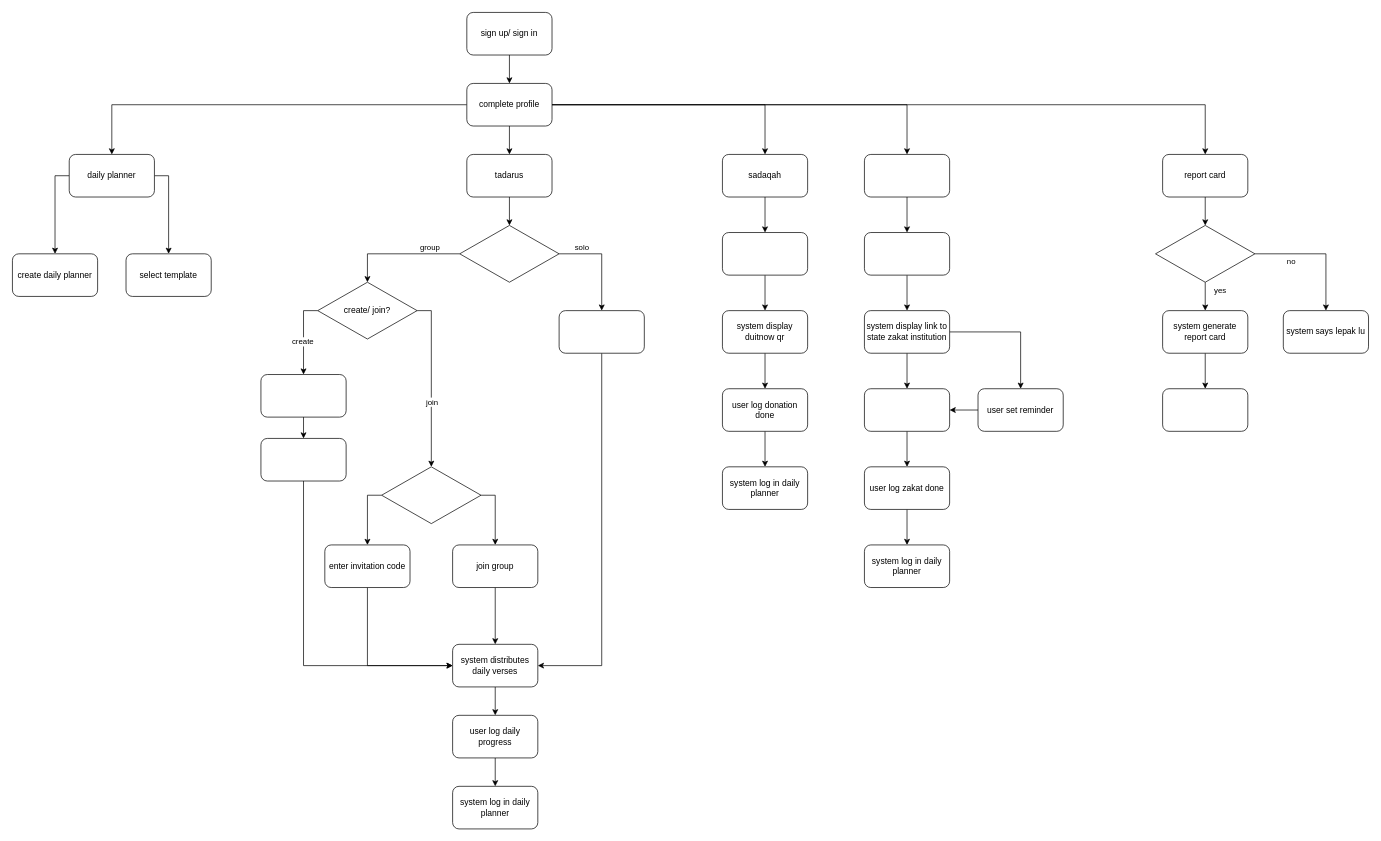
The diagram is 1381 pixels wide and 841 high, and some of its shapes have lost their labels. Each missing label, with the centre of its shape:
"create new group" belongs at (x=303, y=395).
"end of ramadhan?" belongs at (x=1205, y=253).
"group/ solo?" belongs at (x=509, y=253).
"private/ public?" belongs at (x=431, y=495).
"share invitation code" belongs at (x=303, y=459).
"sign up" belongs at (x=601, y=331).
"system fetch sedekahje rawak api" belongs at (x=765, y=253).
"user pay zakat" belongs at (x=907, y=409).
"user reflect on their 2025 ramadhan" belongs at (x=1205, y=409).
"user select state" belongs at (x=907, y=253).
"zakat" belongs at (x=907, y=175).
